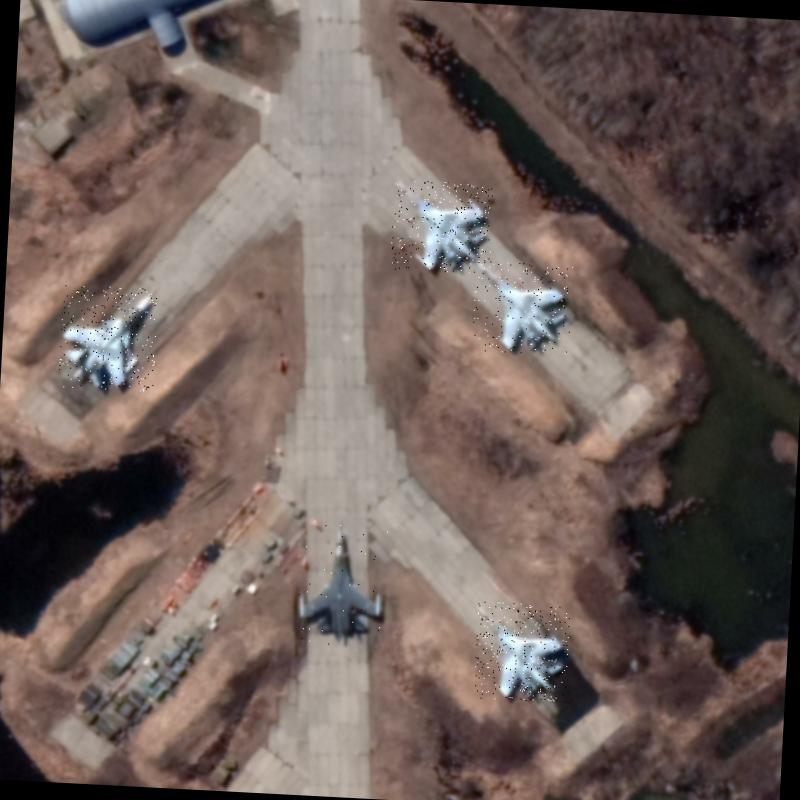A1: (296, 520, 392, 648), (473, 601, 570, 703), (390, 180, 494, 274), (472, 261, 574, 356)
A19: (58, 284, 158, 392)
